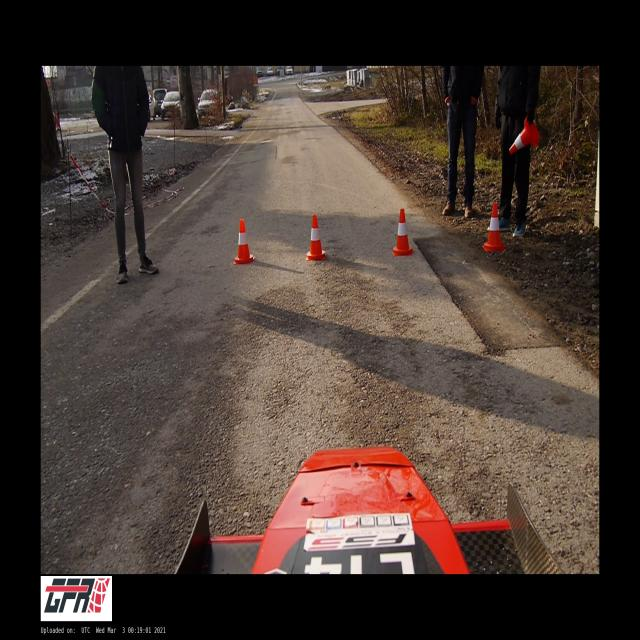orange_cone: (509, 116, 540, 154), (482, 204, 504, 251), (233, 219, 254, 264), (306, 214, 326, 260), (393, 209, 413, 255)
